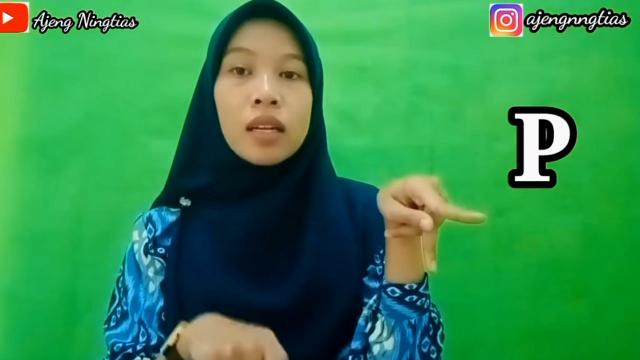P: (373, 174, 493, 274)
